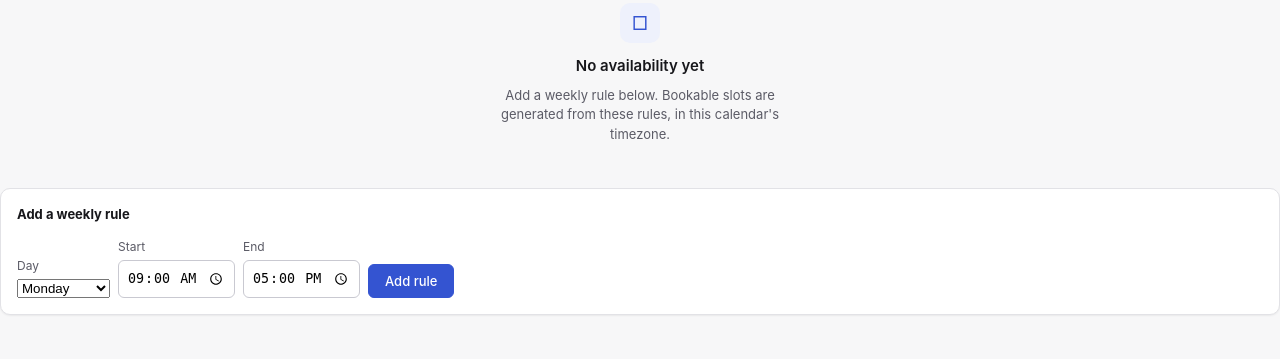
Test: AvailabilityRulesPanel › disables submit when the end time is not after the start time
The width and height of the screenshot is (1280, 359).
Replace the text in the time field named "End time" with "08:00" at coordinates (302, 278), box [243, 260, 360, 298]
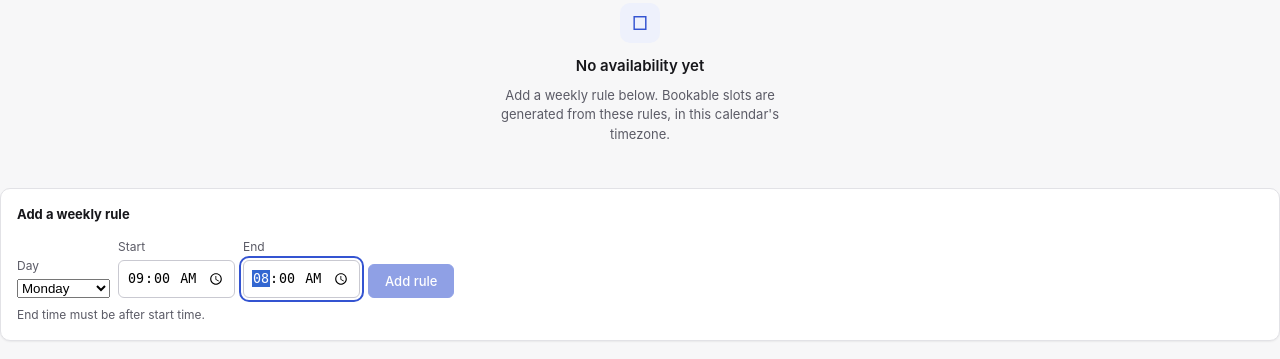
Expected: the button "Add rule" is disabled, [368, 264, 454, 298]
Expected: the text "End time must be after start time." is shown, [17, 306, 205, 322]
